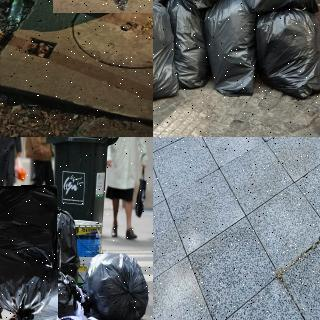Garbage: (0, 185, 57, 320), (253, 1, 320, 100), (203, 0, 259, 96), (83, 250, 151, 320), (165, 0, 214, 88), (153, 0, 179, 102), (0, 185, 16, 267)
